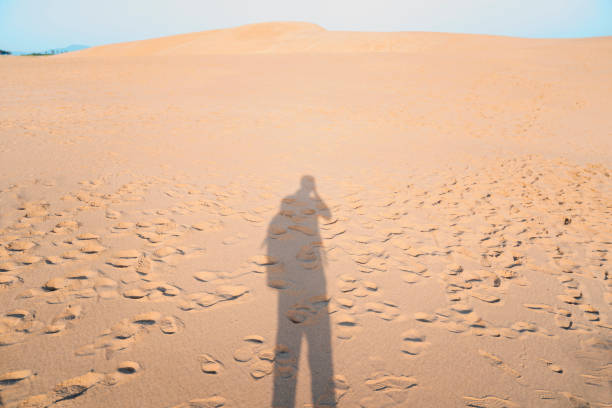human_footprint: (571, 290, 612, 333), (200, 280, 251, 308), (447, 392, 526, 408), (456, 298, 492, 332), (248, 344, 284, 374), (452, 221, 480, 259), (379, 364, 416, 392), (54, 376, 86, 408), (279, 304, 315, 332), (173, 392, 234, 408), (473, 346, 516, 368), (124, 282, 182, 298), (324, 372, 356, 400), (129, 308, 169, 329), (526, 306, 568, 325), (561, 387, 598, 408), (118, 226, 154, 247), (413, 244, 454, 262), (38, 226, 84, 242), (464, 272, 500, 292), (48, 307, 76, 332), (231, 338, 259, 362), (540, 356, 574, 374), (193, 352, 222, 372), (408, 311, 442, 327), (152, 250, 190, 263), (333, 317, 354, 340), (89, 232, 106, 260), (336, 276, 362, 294), (300, 249, 329, 265), (506, 329, 548, 340), (366, 232, 394, 248), (480, 220, 512, 234), (5, 236, 28, 255), (7, 372, 34, 388), (21, 204, 48, 220), (394, 264, 424, 278), (66, 270, 90, 286), (10, 314, 33, 330), (254, 259, 280, 272), (393, 330, 414, 346), (110, 263, 134, 276), (39, 286, 61, 300), (174, 220, 194, 235), (113, 329, 130, 346), (200, 221, 215, 239), (414, 224, 440, 234), (276, 284, 292, 300), (116, 368, 140, 378), (110, 209, 127, 223), (350, 252, 372, 262), (546, 245, 568, 255), (74, 194, 98, 202), (487, 254, 505, 263)
